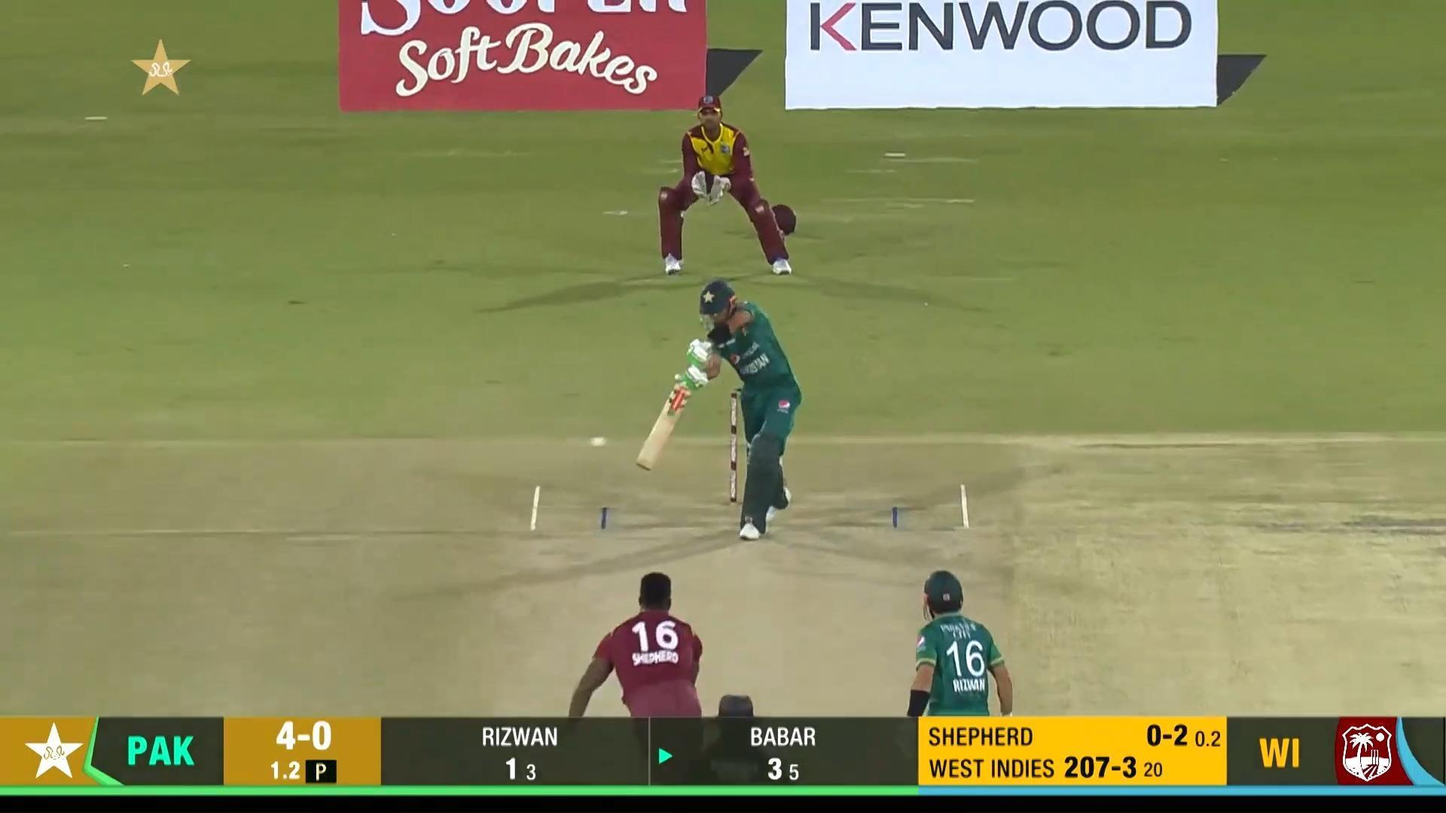BM 1: (635, 279, 802, 540)
BO: (568, 570, 706, 717)
